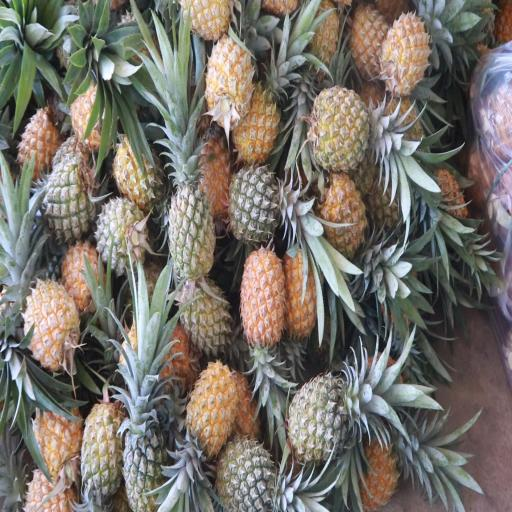------------------------------: (308, 87, 382, 175), (168, 155, 216, 278), (215, 440, 281, 512), (122, 411, 167, 512), (105, 140, 161, 216), (182, 273, 232, 354), (349, 4, 395, 84), (61, 243, 107, 316), (17, 115, 62, 180)
Pineapple - v8 v1: (24, 276, 80, 364), (189, 360, 238, 454), (242, 248, 287, 349), (81, 400, 127, 498), (316, 178, 369, 262), (207, 30, 253, 122), (382, 10, 430, 98), (230, 83, 279, 167), (33, 391, 82, 475), (359, 432, 413, 508), (285, 246, 324, 350)
